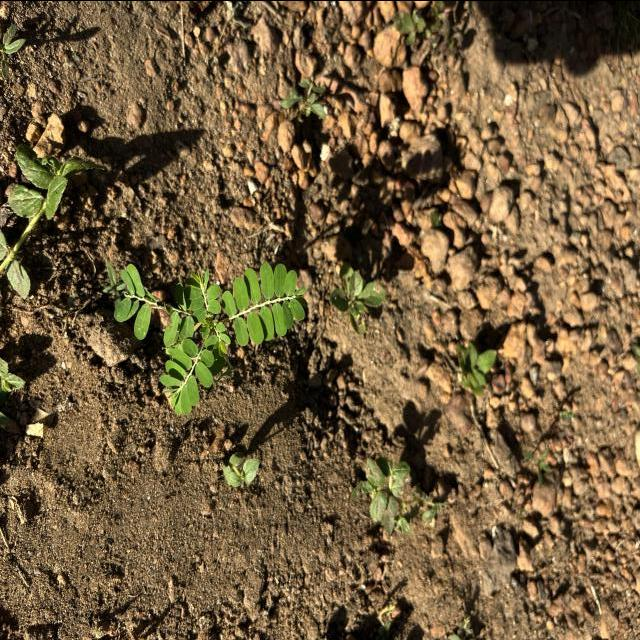Phyllanthus niruri: (220, 258, 310, 346), (162, 329, 221, 419), (186, 264, 222, 322)
